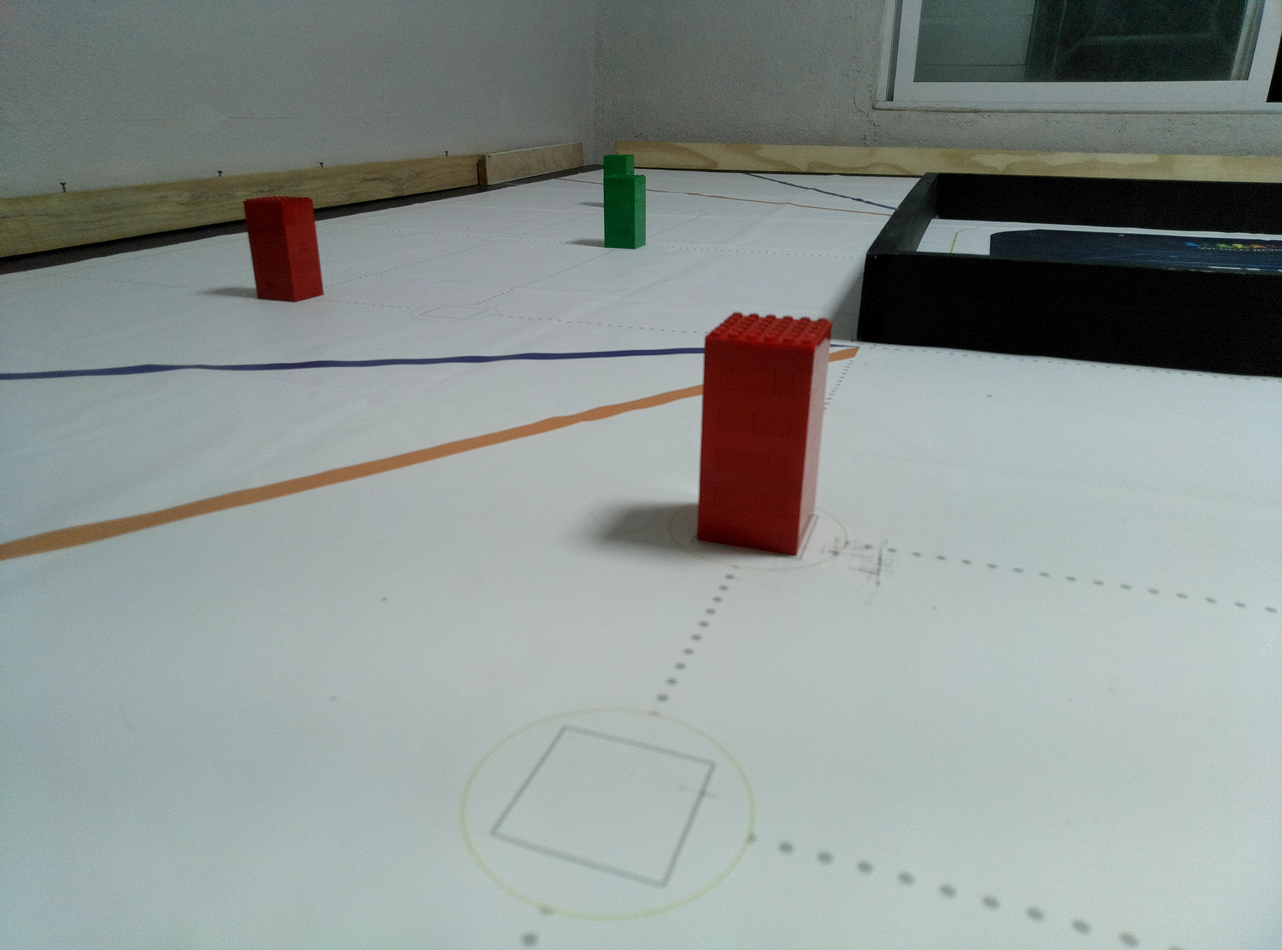greenbox: (603, 174, 647, 249), (603, 154, 635, 174)
redbox: (695, 307, 832, 558), (242, 197, 325, 303)
